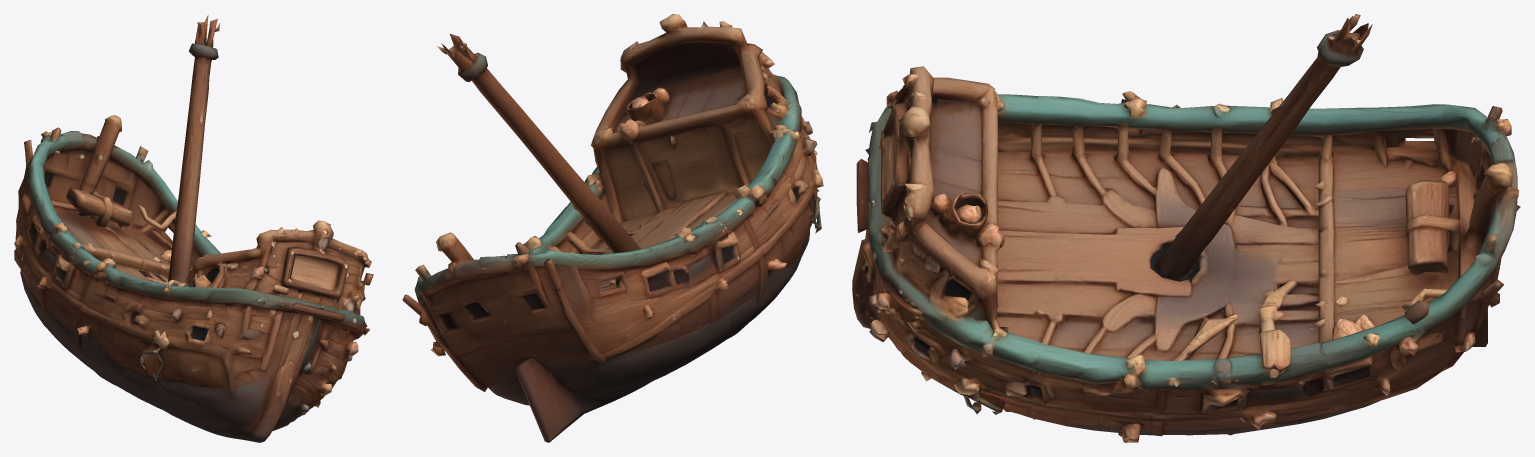
The model's file is shipwreck.glb.
3 renders of one model, left to right at view 1: azimuth 30°, elevation 25°; view 2: azimuth 150°, elevation 25°; view 3: azimuth 270°, elevation 25°, orthographic. The views are drawn at different scales.
Visible parts, largest first — view 1: tripo_node_251e444a-2be7-4a10-be0d-ff545f90e3ce; view 2: tripo_node_251e444a-2be7-4a10-be0d-ff545f90e3ce; view 3: tripo_node_251e444a-2be7-4a10-be0d-ff545f90e3ce.
Part boxes in pixels (x1,y1,x2,y2): tripo_node_251e444a-2be7-4a10-be0d-ff545f90e3ce: (14,15,373,442); tripo_node_251e444a-2be7-4a10-be0d-ff545f90e3ce: (402,14,823,442); tripo_node_251e444a-2be7-4a10-be0d-ff545f90e3ce: (852,14,1520,442).
Bounding box in the file's own units: 15.96 × 20.96 × 28.
1 material, 1 textured.
